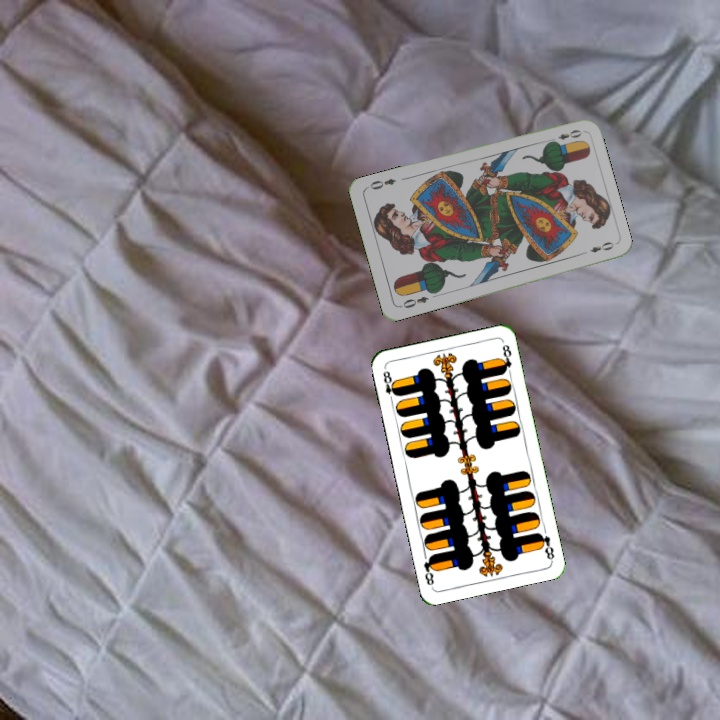E8: (534, 528, 557, 563), (379, 367, 400, 405)
EO: (545, 126, 584, 146), (396, 292, 431, 311)
